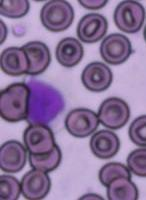L: (24, 73, 70, 126)
